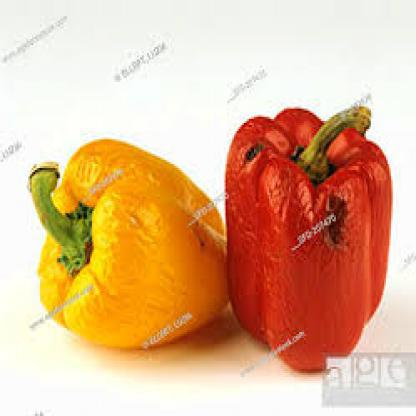capsicum_rotten: (15, 111, 234, 359)
